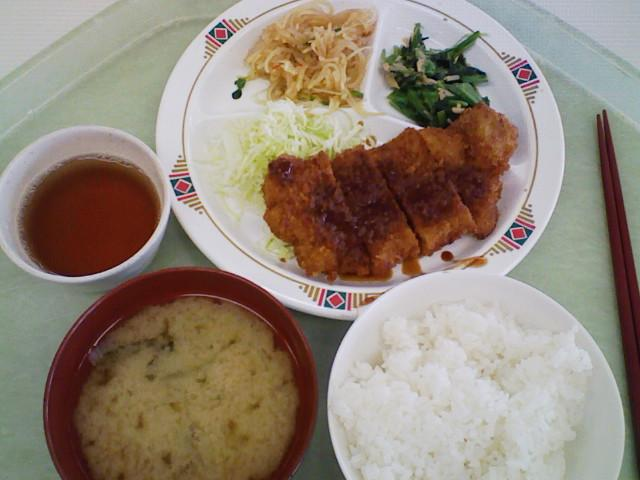plate: (328, 269, 623, 479)
rice: (330, 299, 590, 479)
